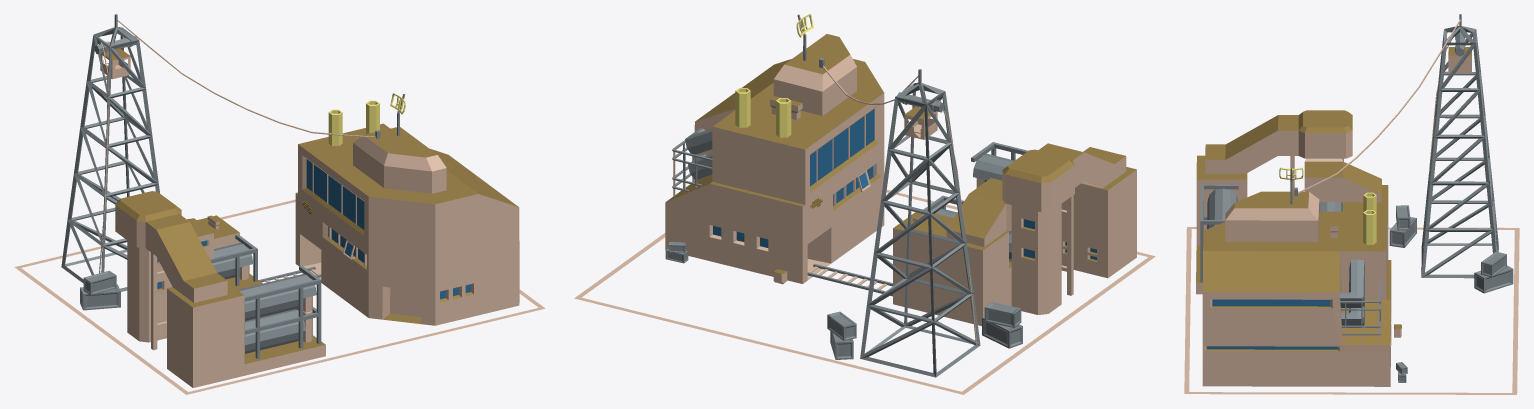
Rendered from FactoryWater_3.fbx.
3 views of the same model, side by side, from view 1: azimuth 30°, elevation 25°; view 2: azimuth 150°, elevation 25°; view 3: azimuth 270°, elevation 25° (orthographic). The views are drawn at different scales.
Visible parts, largest first — view 1: Factory_Water.002; view 2: Factory_Water.002; view 3: Factory_Water.002.
Boxes of the visible parts, x1,y1,x2,y2 form: Factory_Water.002: (14,14,545,394); Factory_Water.002: (574,14,1155,394); Factory_Water.002: (1184,14,1519,394).
Size of the model in its own units: 756 by 519 by 638.
